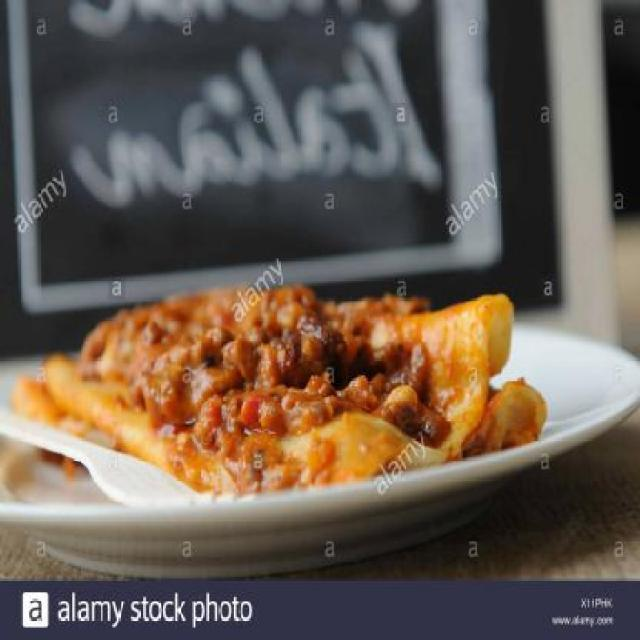Pasta al ragu: (54, 248, 596, 522)
